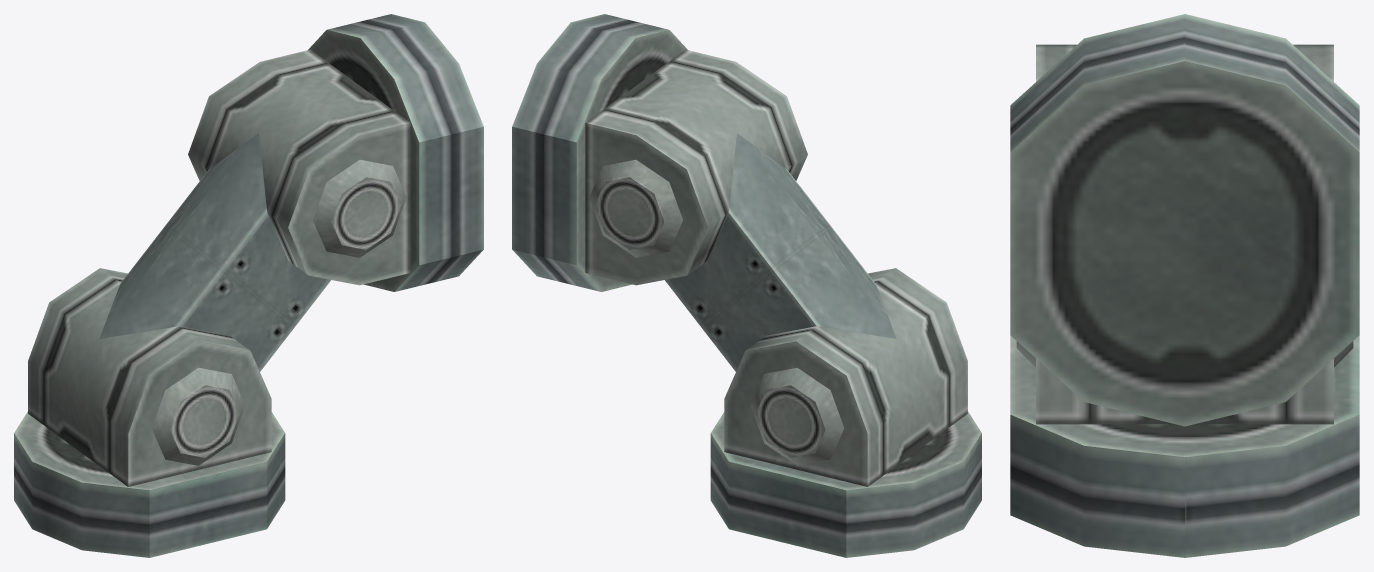
Rendered from Contrafort_small.FBX.
3 views of the same model, side by side, from view 1: azimuth 30°, elevation 25°; view 2: azimuth 150°, elevation 25°; view 3: azimuth 270°, elevation 25° (orthographic). The views are drawn at different scales.
Parts seen in each view (by area): view 1: Contrafort_small; view 2: Contrafort_small; view 3: Contrafort_small.
Part boxes in pixels (bbox=[...]): Contrafort_small: bbox=[14, 14, 483, 557]; Contrafort_small: bbox=[512, 14, 981, 557]; Contrafort_small: bbox=[1010, 14, 1359, 557].
Bounding box in the file's own units: 209 × 209 × 108.
